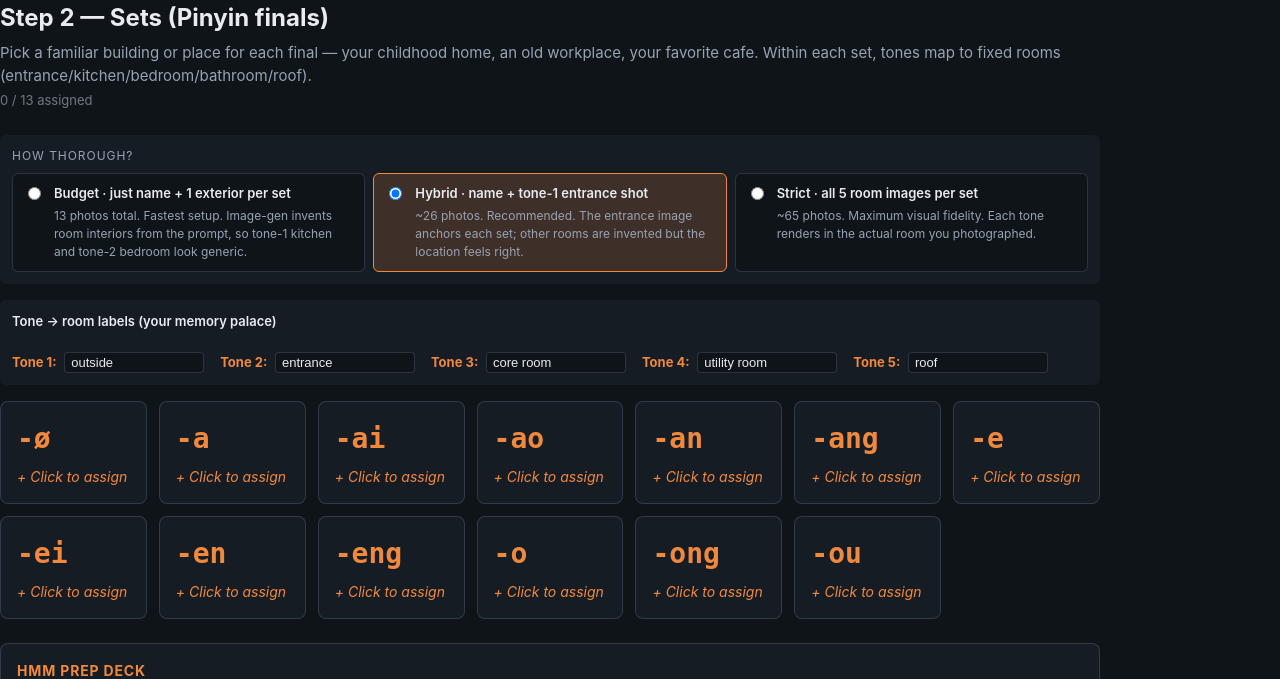
Test case: SetsWizard integration › Esc dismisses the dialog without saving
The width and height of the screenshot is (1280, 679).
Click the button with test id "final-card-a" at (232, 452), box [159,400,306,504]
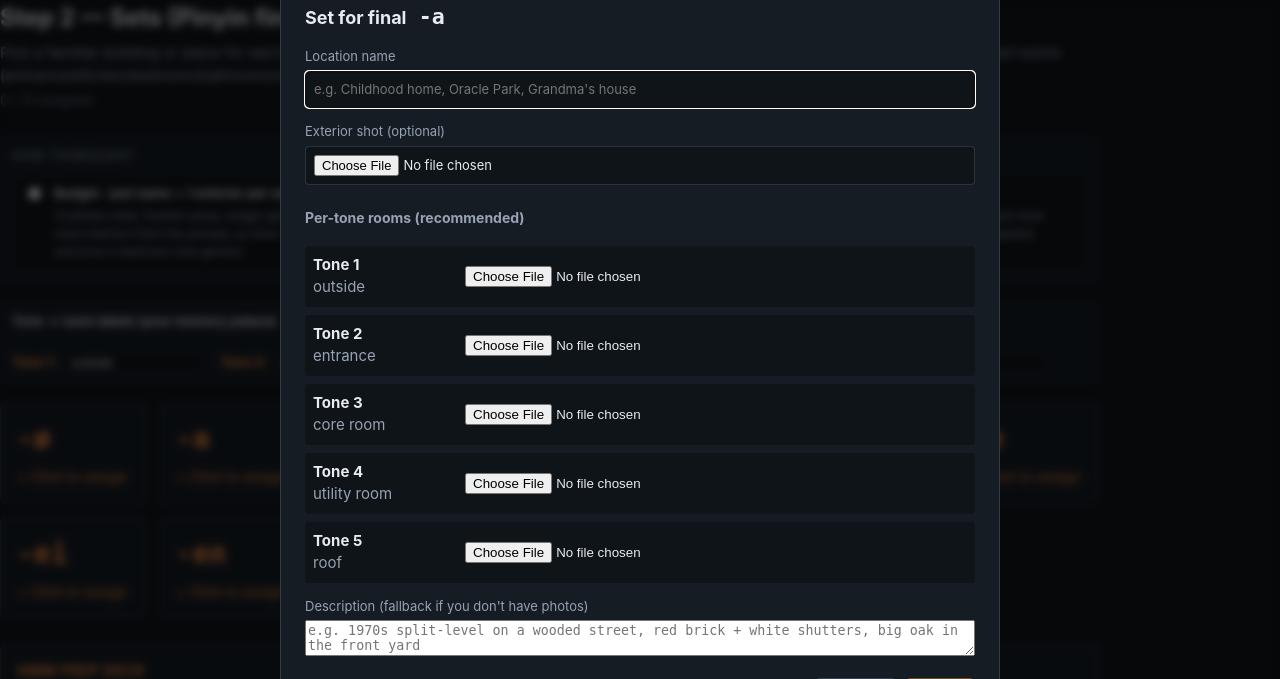
Expected: the field with test id "set-name-input" is shown, [305,71,975,108]
Press Escape
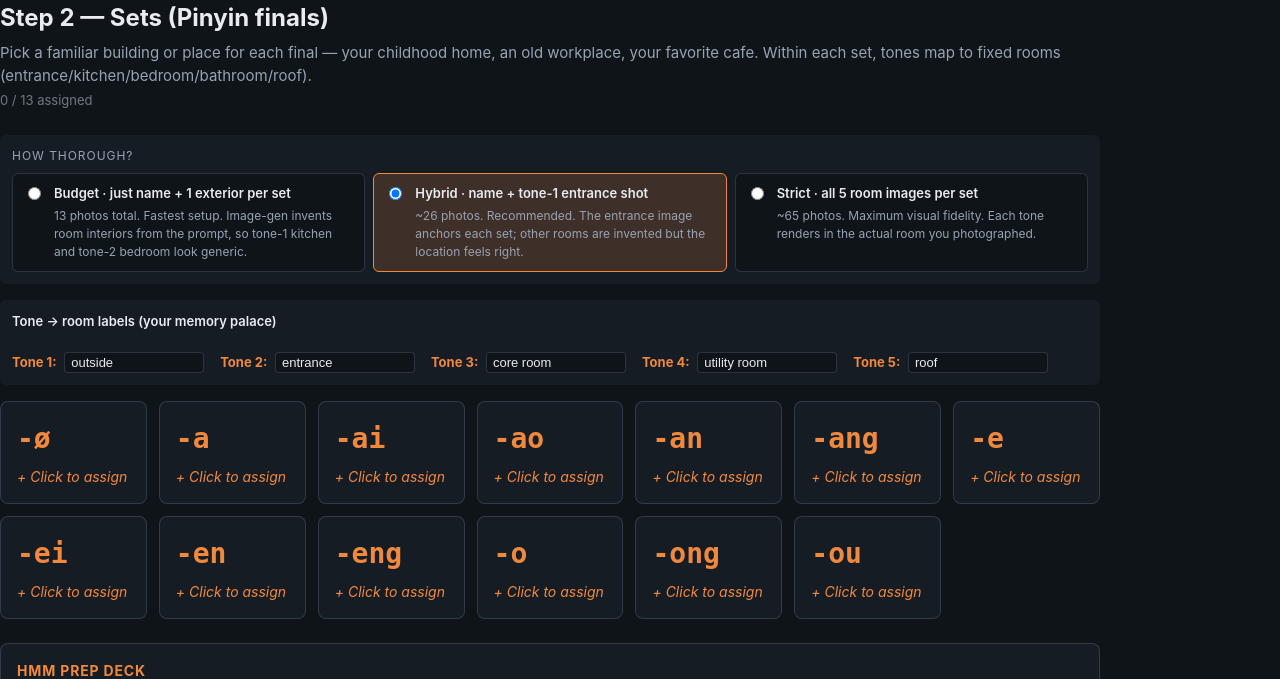
Expected: the button with test id "final-card-a" shows "Click to assign", [159,400,306,504]
Expected: the field with test id "set-name-input" is gone
